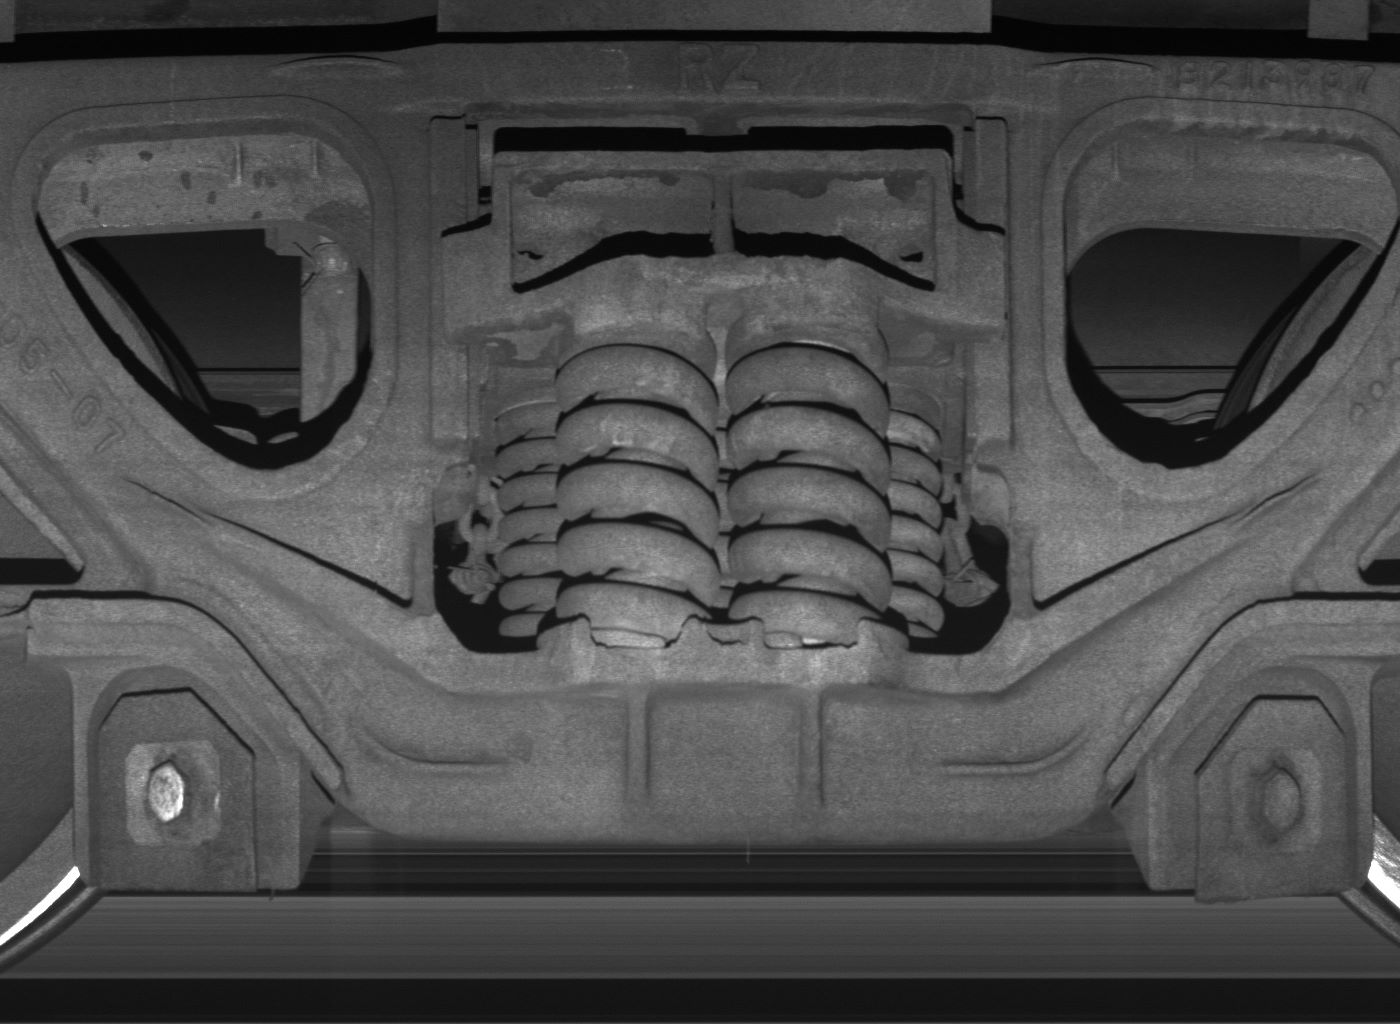normal: (1148, 667, 1372, 900), (73, 665, 300, 894)
